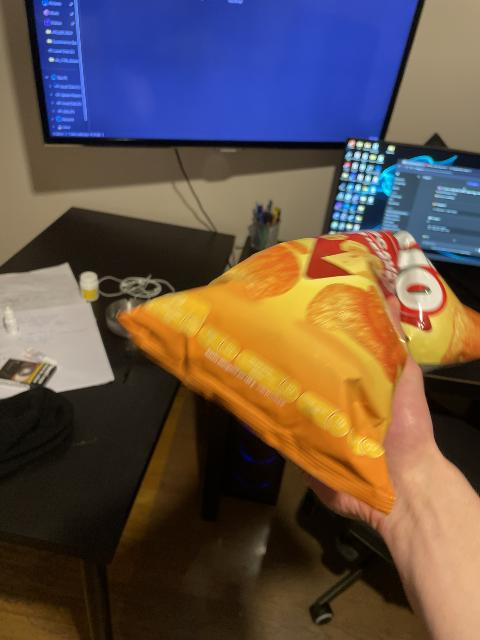Chio Cascaval 125g: (116, 236, 463, 513)
